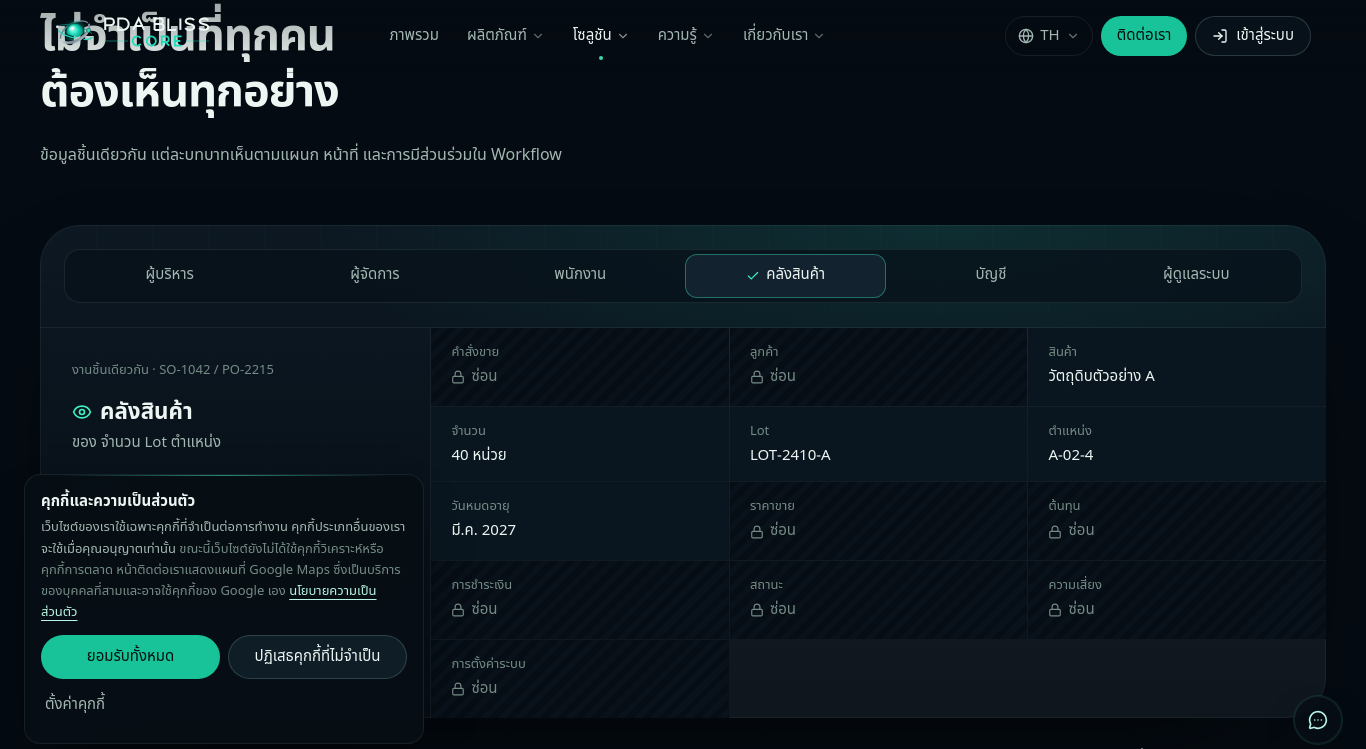
/enterprise page › masks money from the Warehouse view of the same object
(page scrolled)
Expected: the element that starts with "คำสั่งขาย" shows "40 หน่วย", [451,444,507,467]
Expected: the element that starts with "คำสั่งขาย" shows "LOT-2410-A", [750,444,831,467]
Click the radio button labelled "บัญชี".
click(991, 276)  # box [890,254,1092,298]
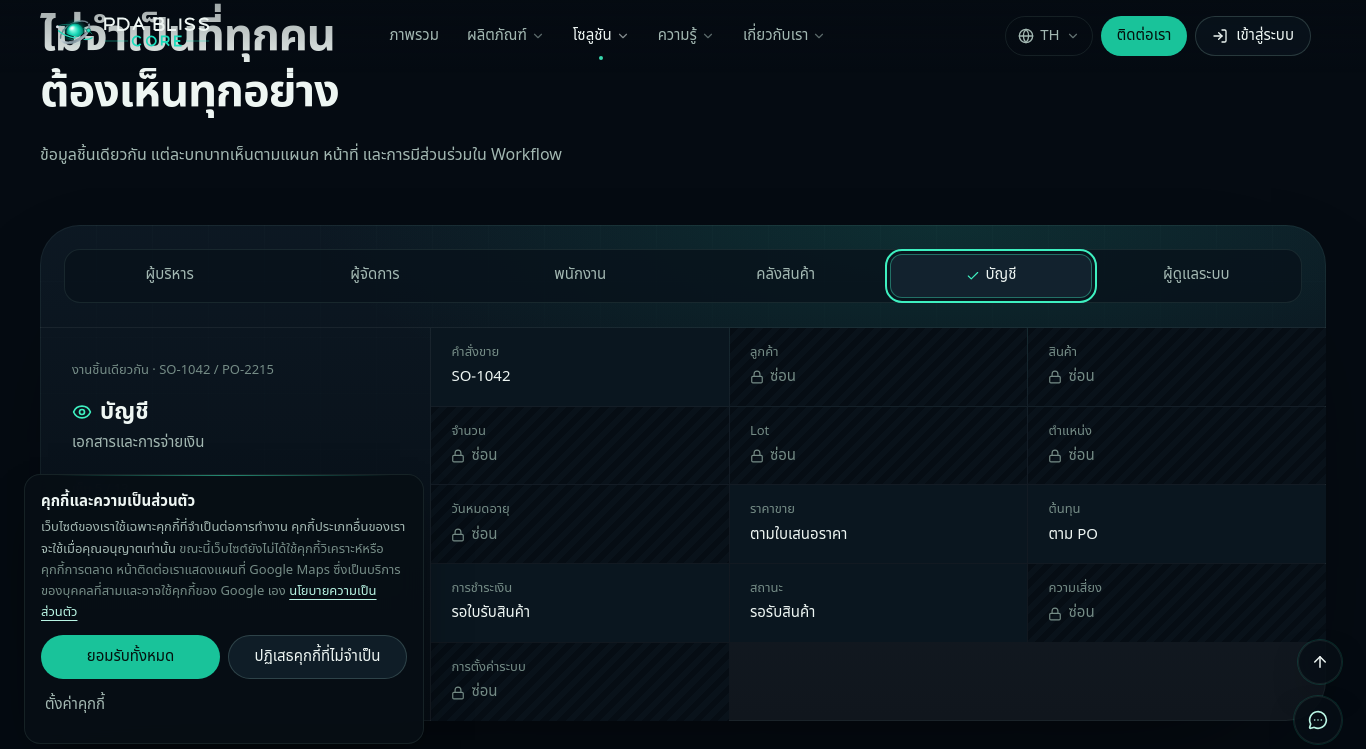
Expected: the element that starts with "คำสั่งขาย" shows "ตามใบเสนอราคา", [750,523,847,546]
